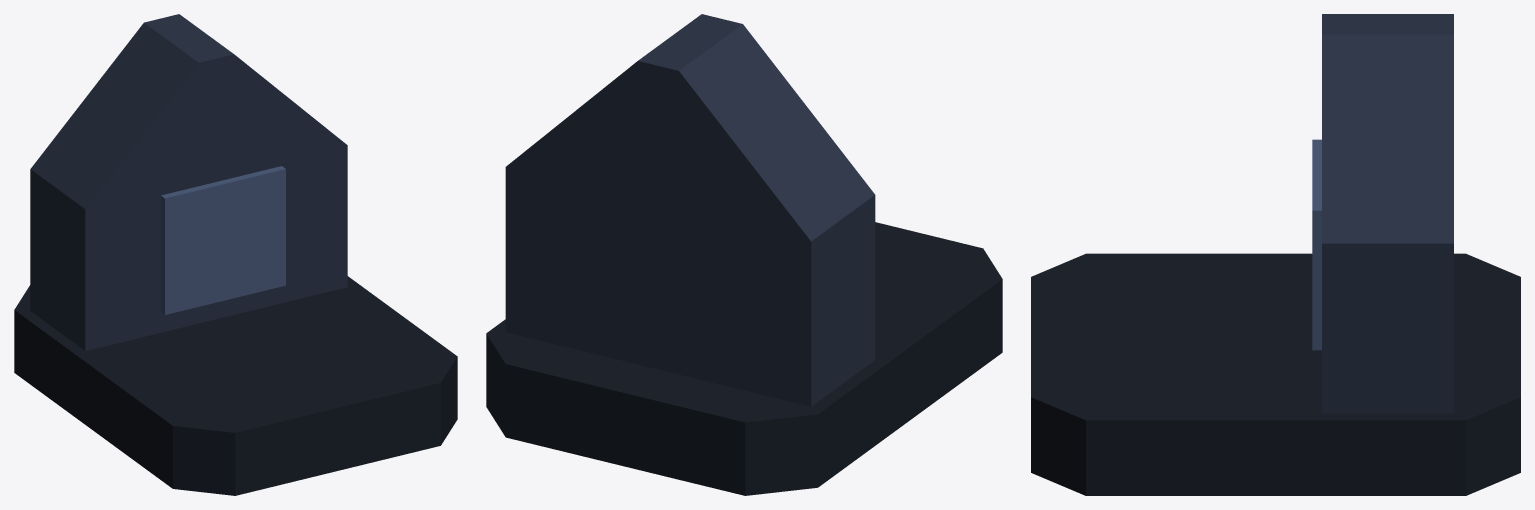
The model's file is grave2.FBX.
3 renders of one model, left to right at view 1: azimuth 30°, elevation 25°; view 2: azimuth 150°, elevation 25°; view 3: azimuth 270°, elevation 25°, orthographic. The views are drawn at different scales.
Parts seen in each view (by area): view 1: grave2; view 2: grave2; view 3: grave2.
Part boxes in pixels (x1=…): grave2: x1=14, y1=14, x2=457, y2=495; grave2: x1=486, y1=14, x2=1002, y2=495; grave2: x1=1031, y1=14, x2=1520, y2=495.
Size of the model in its own units: 10.72 by 11.64 by 13.31.
